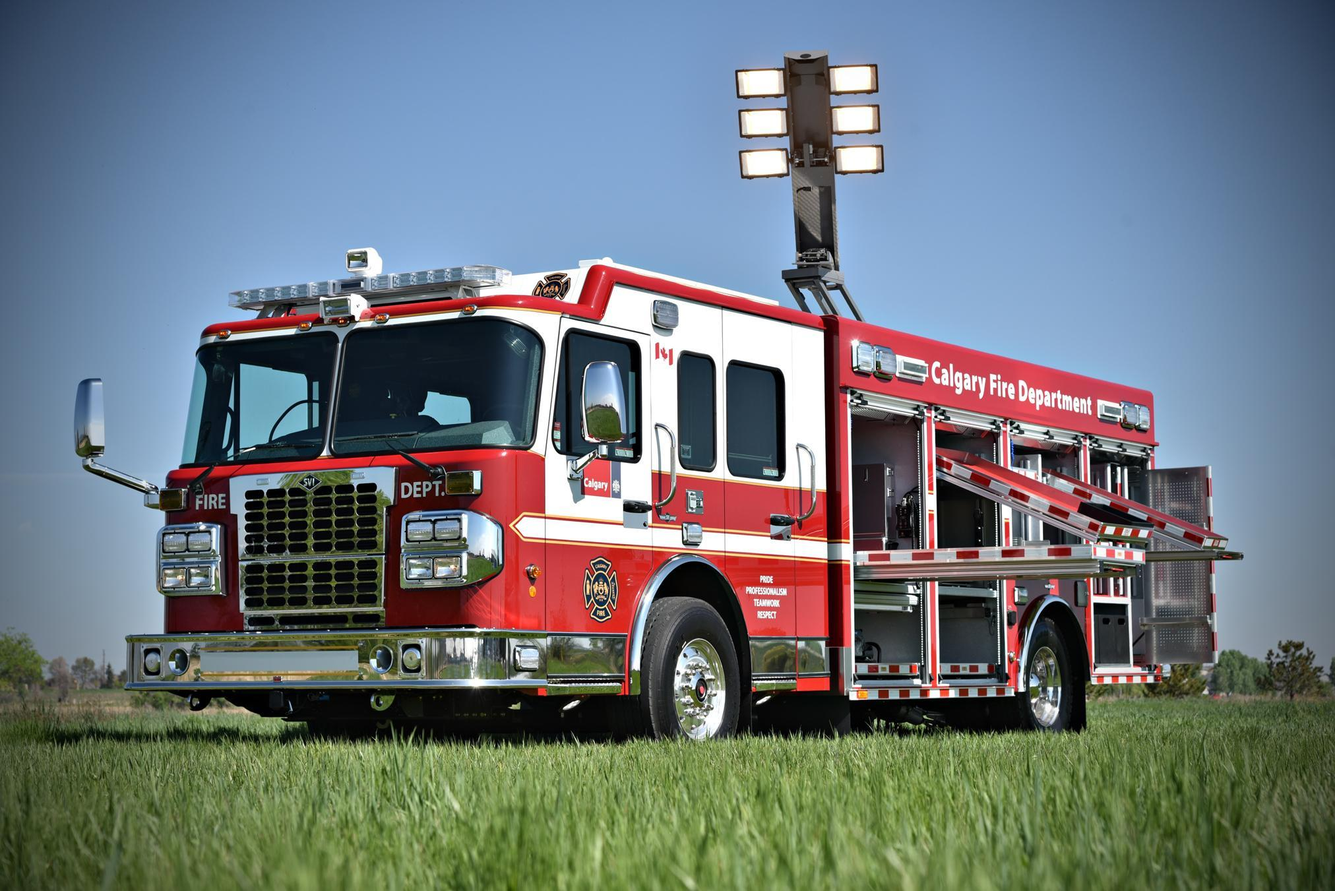Fire-engine: (121, 253, 1240, 738)
